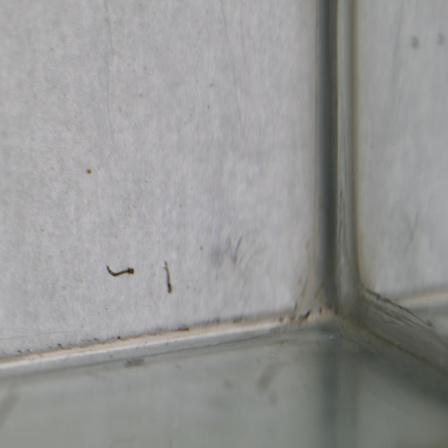Jentik-Nyamuk: (104, 261, 137, 284), (161, 259, 178, 296)
